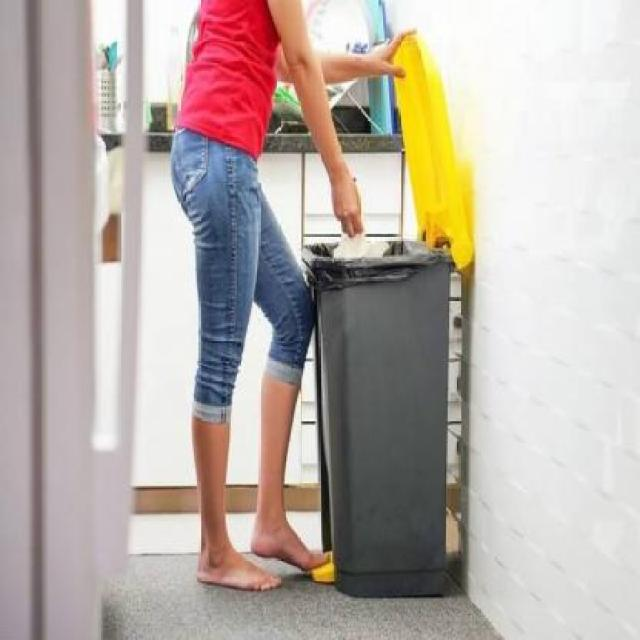garbage container: (296, 228, 456, 602)
